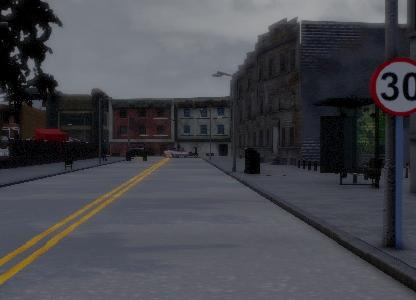Speed_30: (369, 55, 416, 116)
